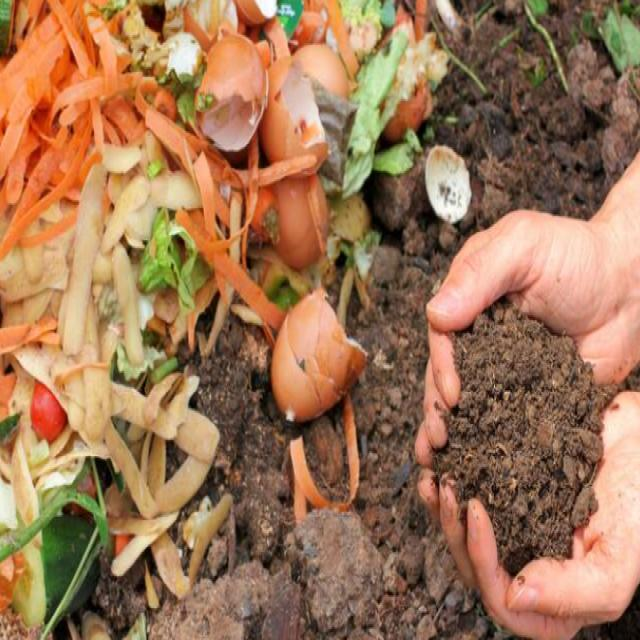paper: (34, 245, 134, 419), (271, 290, 379, 434), (490, 337, 579, 504), (1, 32, 109, 154), (262, 52, 336, 174)
